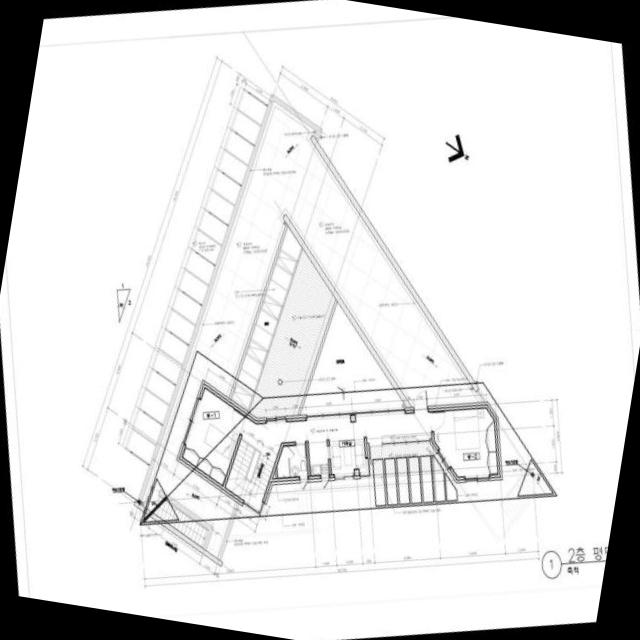background: (0, 0, 640, 640)
space_bedroom: (182, 388, 245, 485), (432, 408, 497, 476)
space_kitchen: (308, 439, 329, 475)
space_living_room: (241, 412, 431, 474)
space_other: (272, 472, 275, 478)
space_staircase: (225, 437, 275, 510), (152, 494, 208, 548)
space_toilet: (277, 444, 307, 477)
